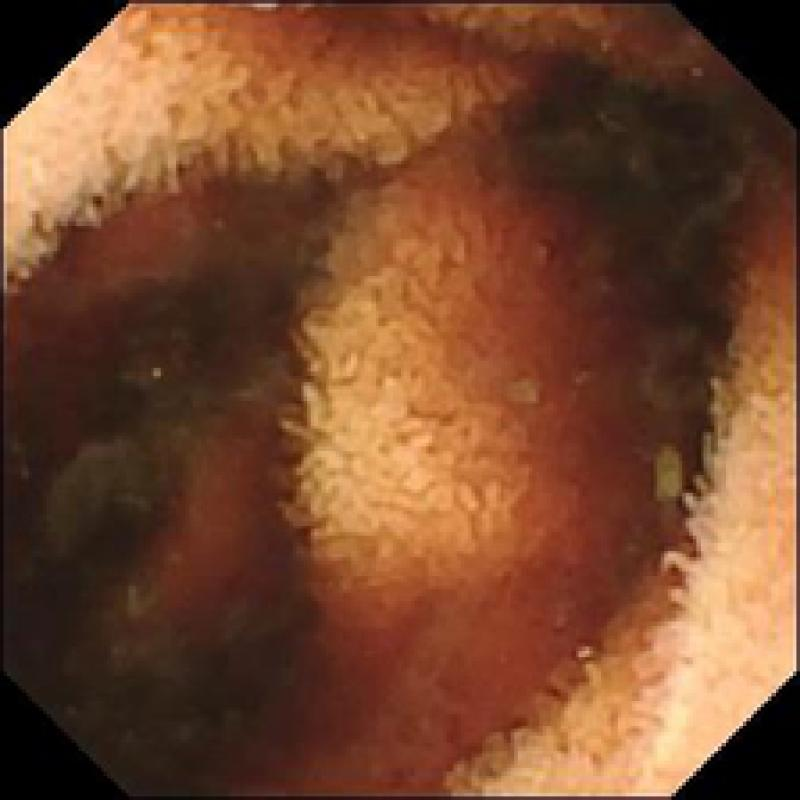bleeding: (111, 439, 264, 625)
